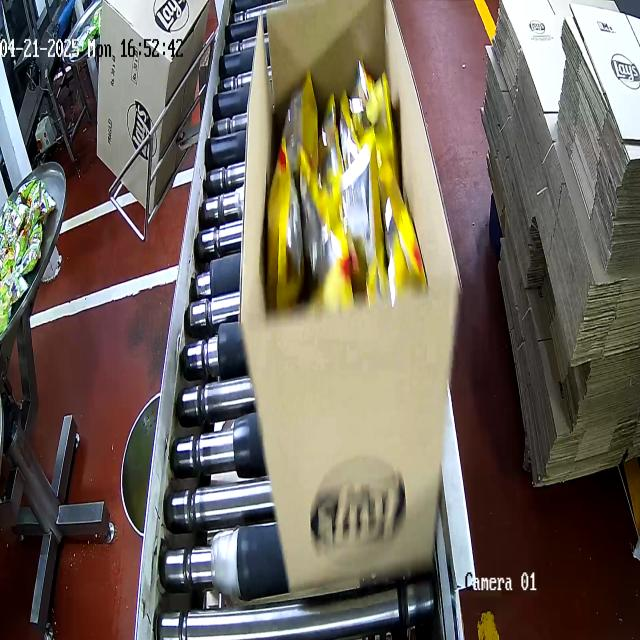SALTED: (263, 78, 411, 318)
